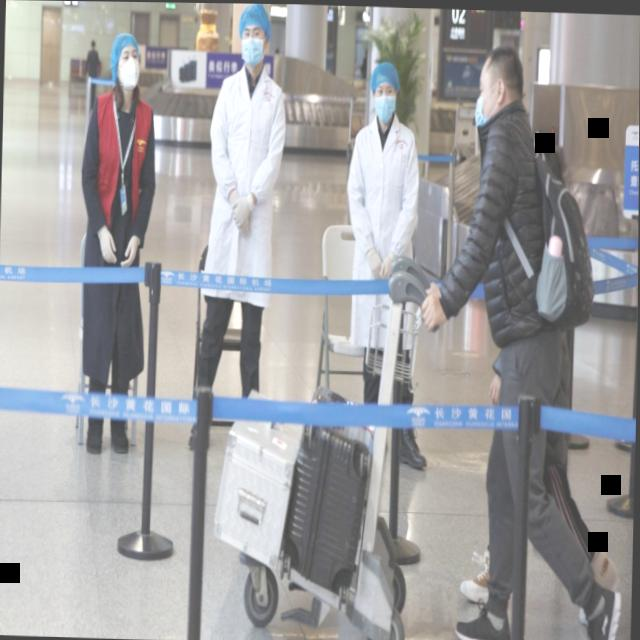Mask: (470, 44, 528, 134), (235, 3, 272, 74), (107, 27, 145, 95), (366, 57, 401, 121)
